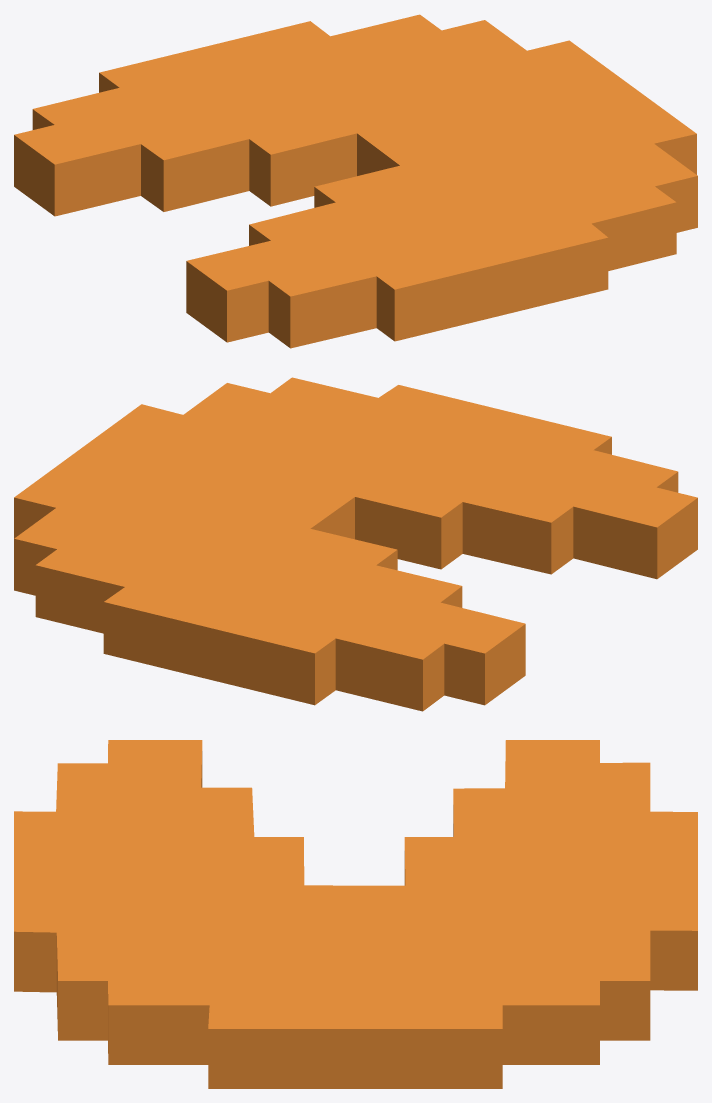
Rendered from player.FBX.
3 views of the same model, one above another, from view 1: azimuth 30°, elevation 25°; view 2: azimuth 150°, elevation 25°; view 3: azimuth 270°, elevation 25° (orthographic). The views are drawn at different scales.
Visible parts, largest first — view 1: 13.2.163.0; view 2: 13.2.163.0; view 3: 13.2.163.0.
Part boxes in pixels (x1=…): 13.2.163.0: x1=14, y1=14, x2=697, y2=348; 13.2.163.0: x1=14, y1=377, x2=697, y2=711; 13.2.163.0: x1=14, y1=740, x2=697, y2=1088.
Size of the model in its own units: 213 by 20.56 by 213.
1 material, 1 textured.
